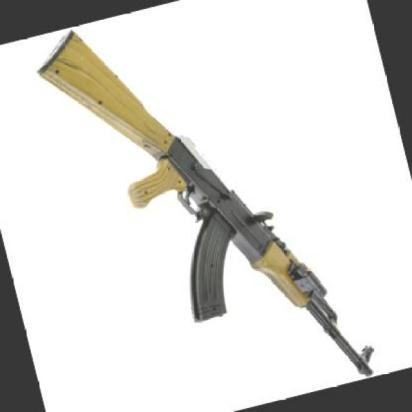Gun: (35, 23, 394, 399)
